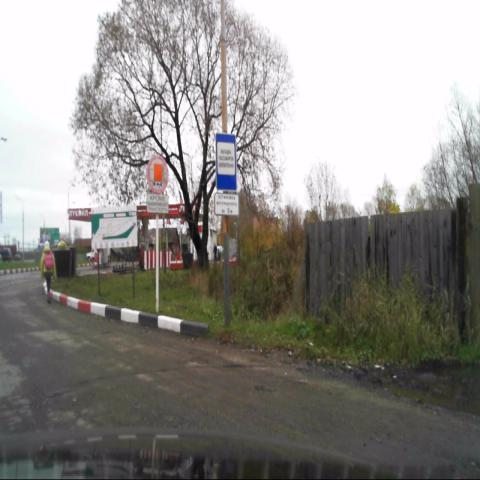3_32: (146, 153, 169, 194)
